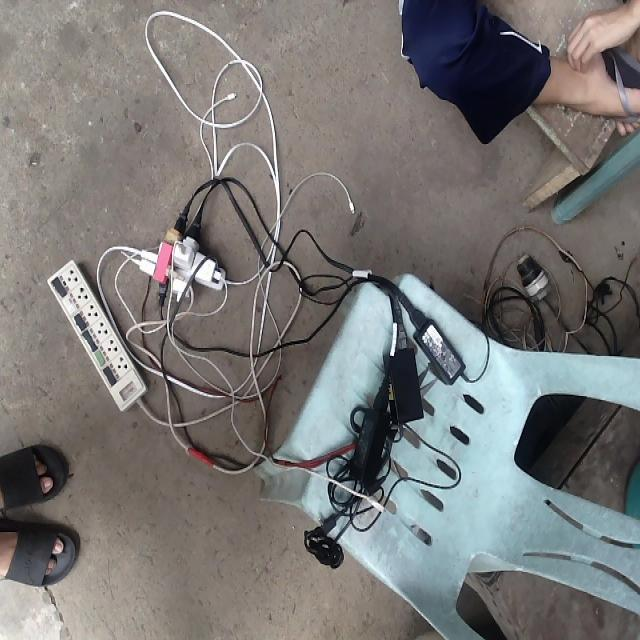-: (133, 217, 224, 304)
